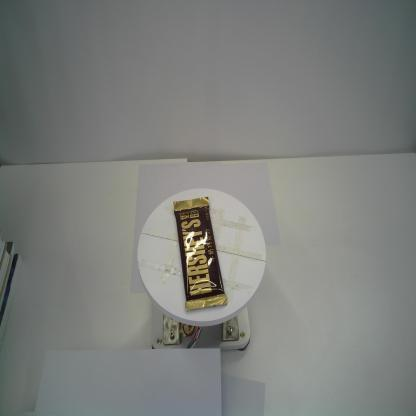Chocolate: (172, 195, 228, 312)
